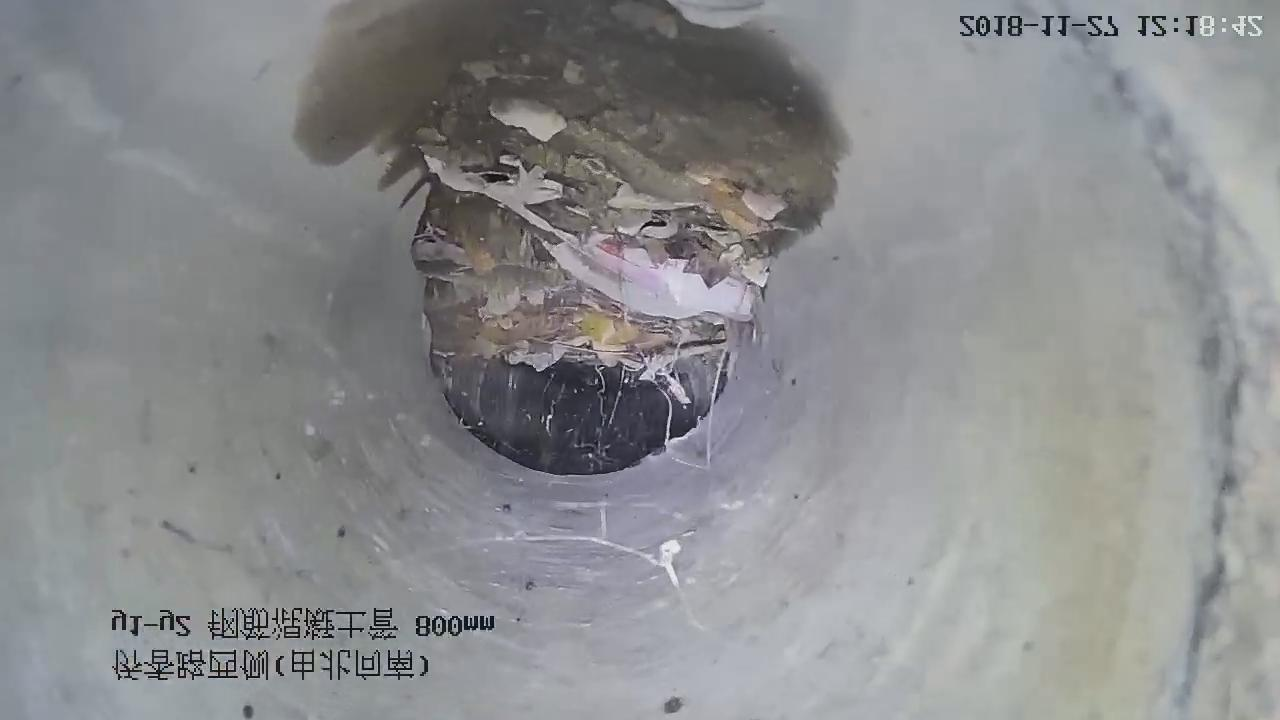ZAW: (402, 1, 839, 404)
